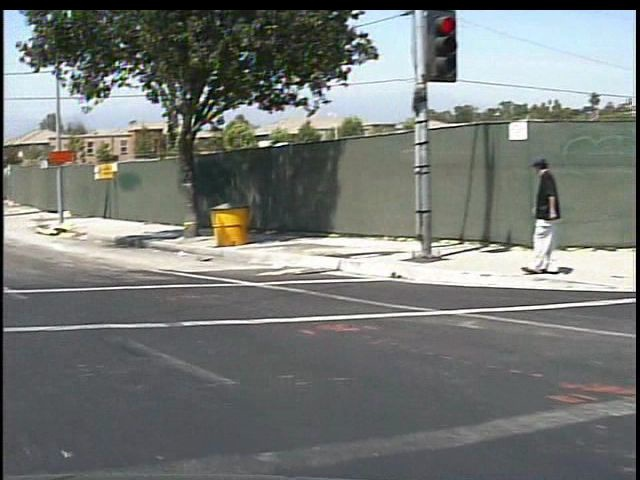person: (508, 149, 562, 287)
